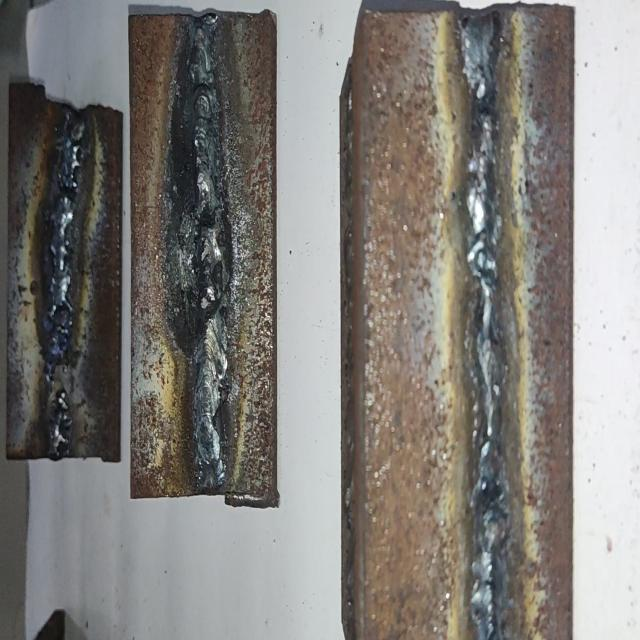Defect: (176, 196, 234, 336), (46, 114, 88, 214), (46, 334, 76, 403)
Welding Line: (468, 21, 501, 636), (192, 28, 221, 478), (51, 110, 78, 456)
Workpiece: (336, 0, 574, 640), (129, 10, 283, 518), (5, 79, 121, 465)
